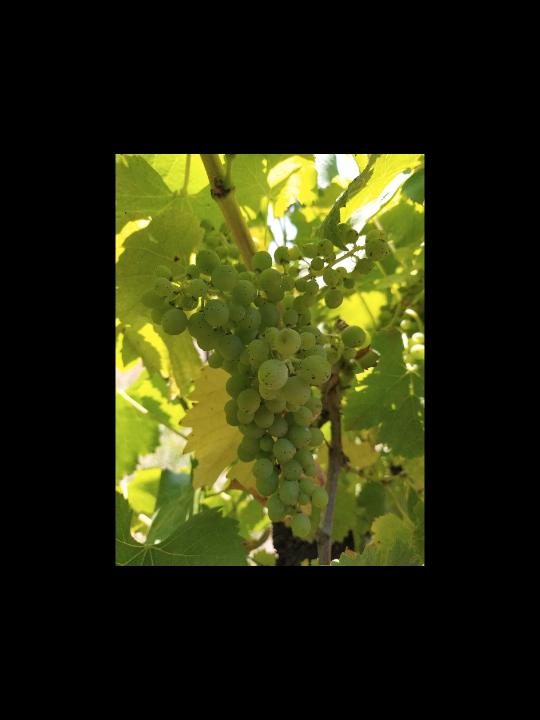grape: (137, 223, 391, 539)
